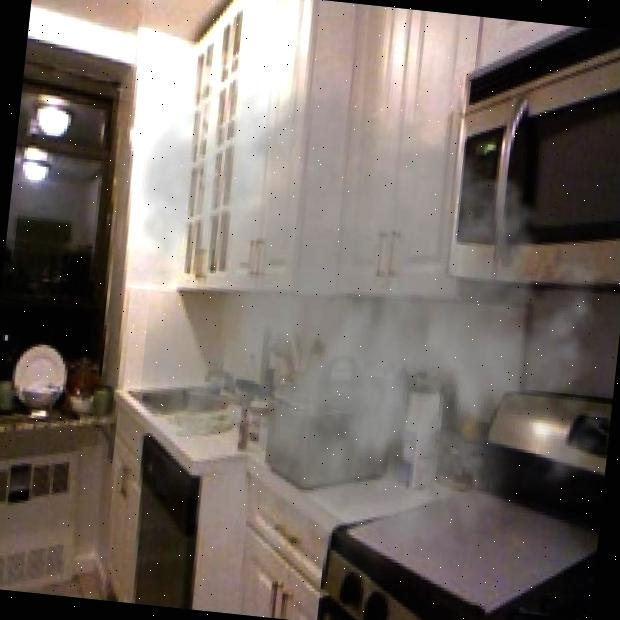smoke: (232, 100, 501, 378)
